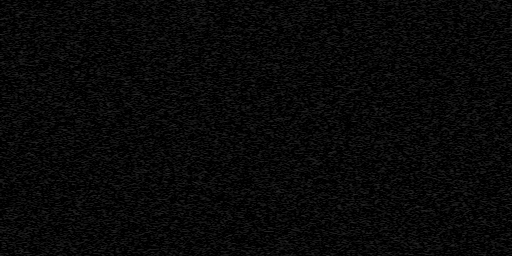wv_cw: (201, 0, 207, 256), (193, 0, 198, 256)
wv_lsb: (117, 5, 122, 165), (117, 182, 122, 252), (117, 166, 122, 181), (117, 253, 122, 256)
wv_usb: (162, 9, 167, 98), (162, 113, 167, 167), (162, 192, 166, 244), (162, 177, 166, 191), (162, 99, 167, 108), (162, 245, 166, 256), (162, 109, 167, 112), (162, 168, 166, 171), (162, 172, 166, 175)
wv_wbfm: (166, 0, 176, 256), (125, 0, 134, 256)
